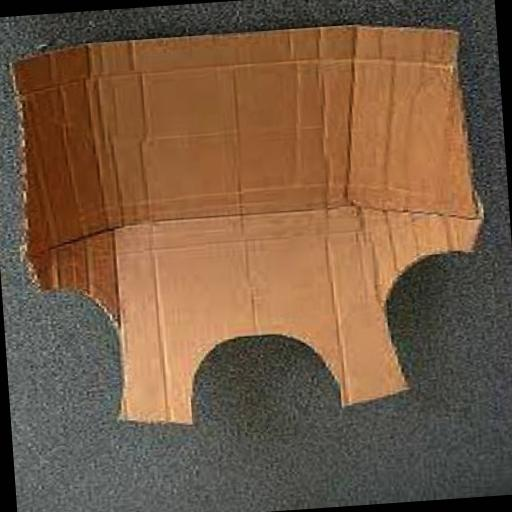cardboard: (8, 19, 492, 440)
